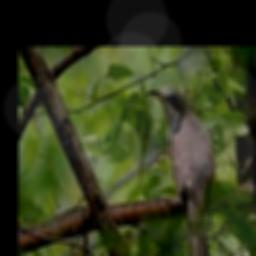Cuckoo: (146, 90, 215, 256)
